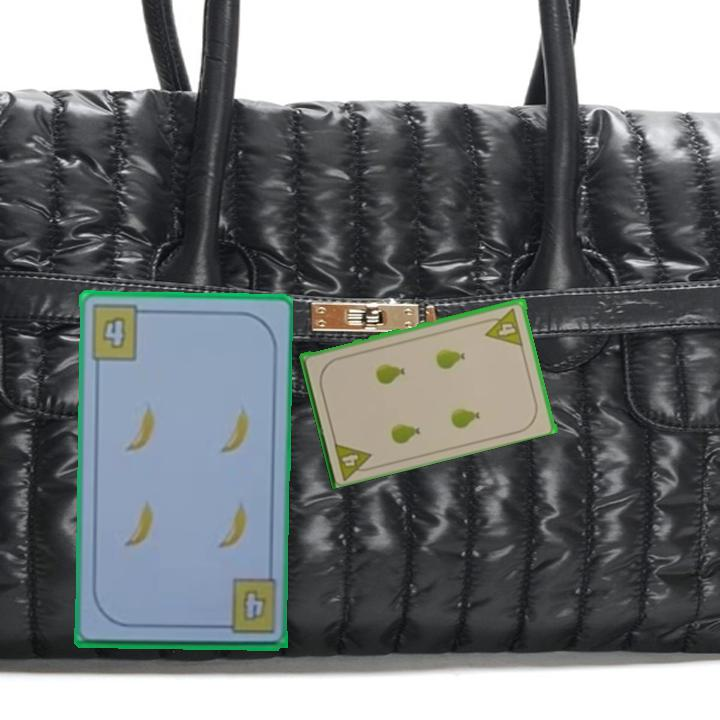4b: (87, 302, 151, 363), (239, 585, 269, 624)
4p: (330, 437, 378, 481), (480, 304, 526, 348)
